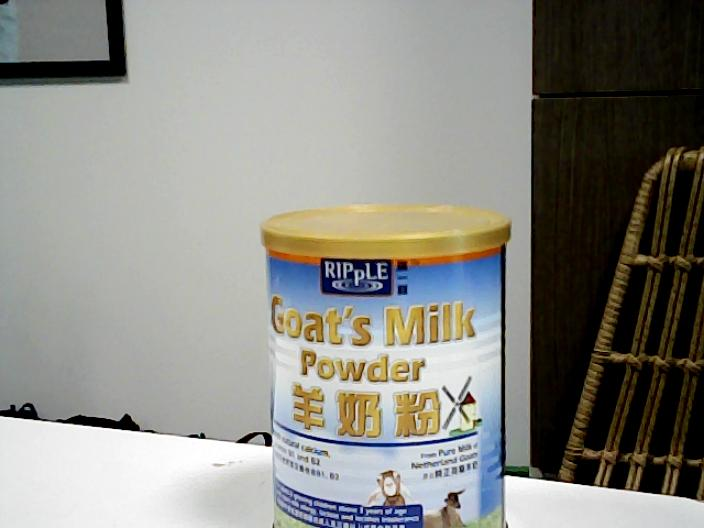Babymilk-powder_400-499g_Halal_NonHealthy: (269, 209, 503, 528)
